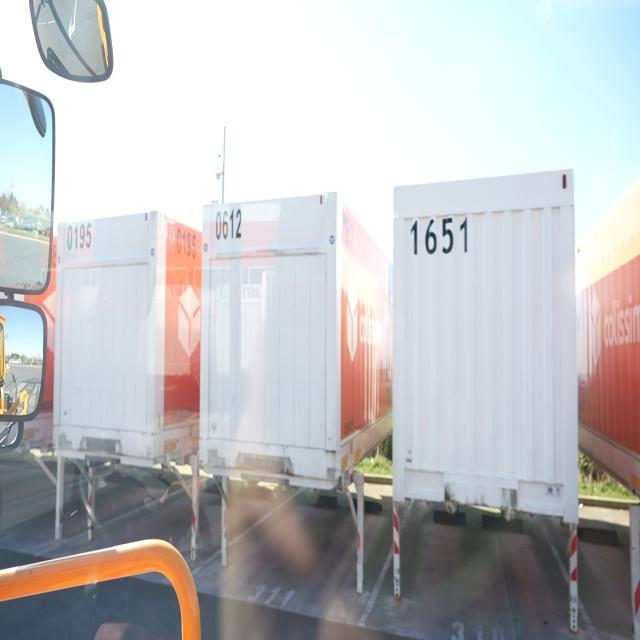Code: (408, 210, 472, 260), (213, 202, 246, 246), (173, 224, 202, 268), (65, 216, 94, 252)
